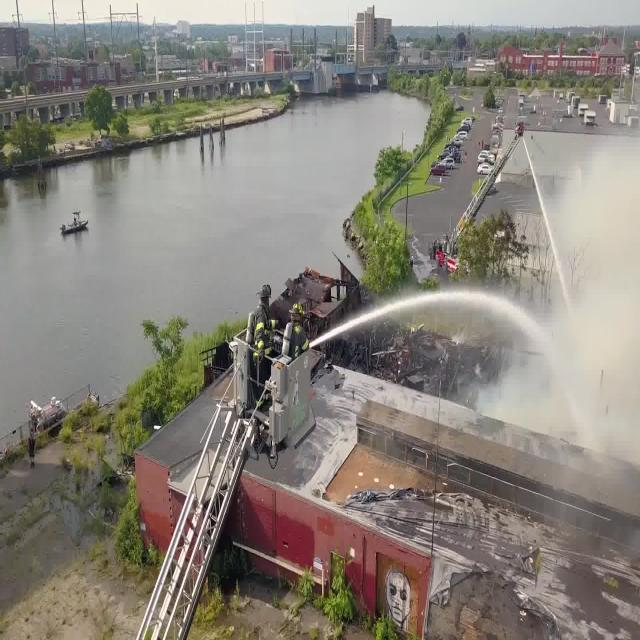Smoke: (484, 104, 640, 427)
